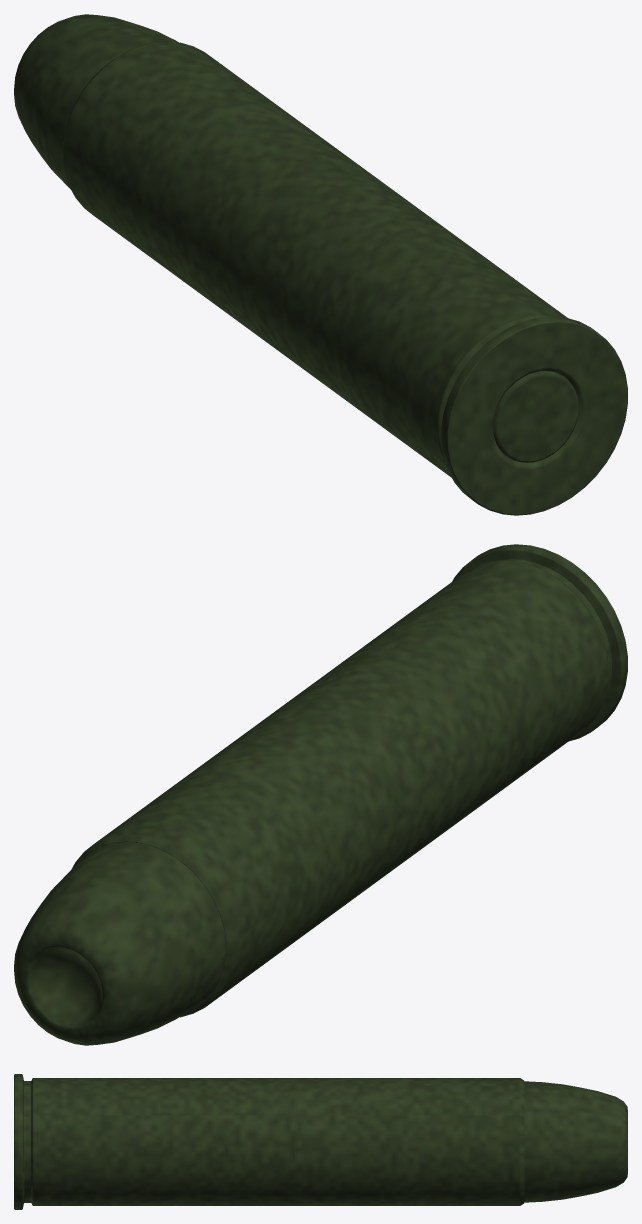
The model's file is ka1bullet.obj.
3 renders of one model, top to bottom at view 1: azimuth 30°, elevation 25°; view 2: azimuth 150°, elevation 25°; view 3: azimuth 270°, elevation 25°, orthographic. The views are drawn at different scales.
Parts seen in each view (by area): view 1: kalinaann1bullet_ka1bullet; view 2: kalinaann1bullet_ka1bullet; view 3: kalinaann1bullet_ka1bullet.
Part boxes in pixels (x1,y1,x2,y2): kalinaann1bullet_ka1bullet: (14, 14, 627, 515); kalinaann1bullet_ka1bullet: (14, 544, 627, 1045); kalinaann1bullet_ka1bullet: (14, 1074, 627, 1209).
Bounding box in the file's own units: 0.4221 × 0.4221 × 1.91.
